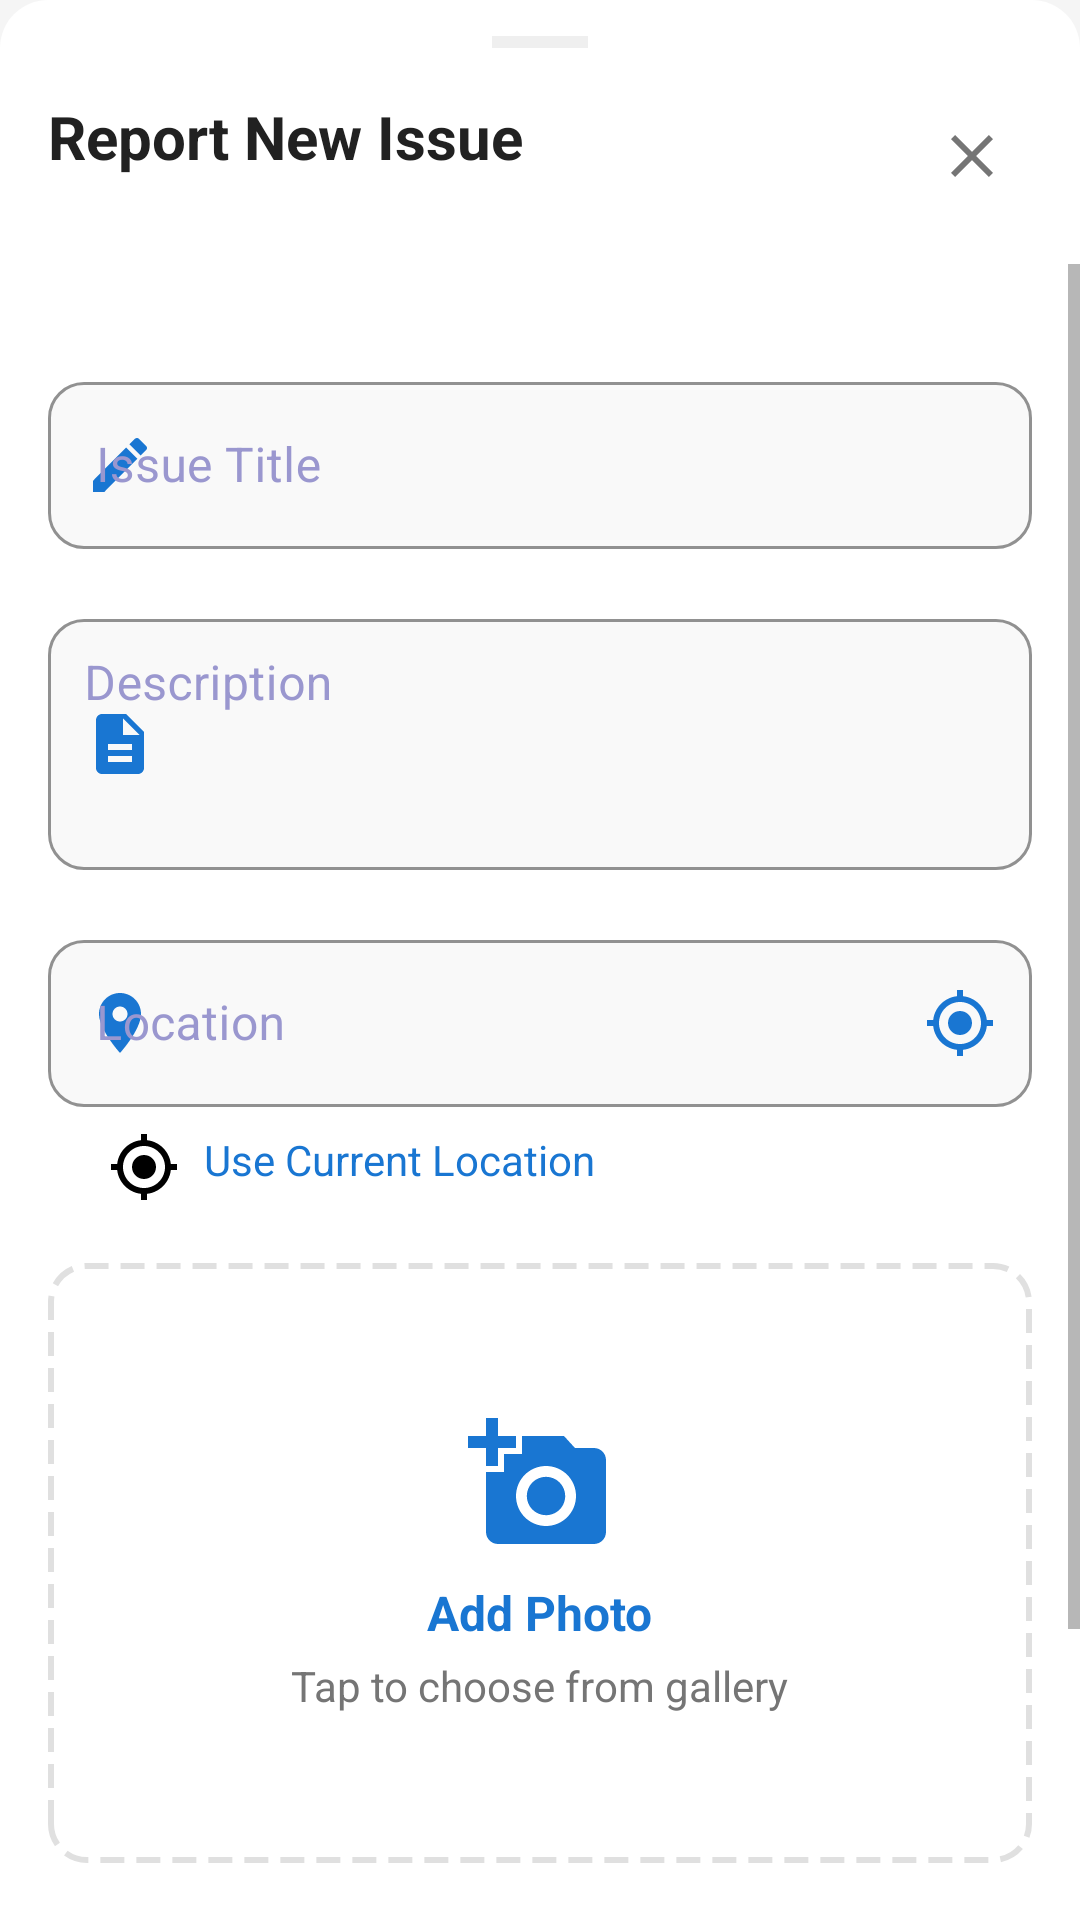

Icon click points for this 1080 x 1920 phone screenshot, format [x,y]:
Close: [972,156]
